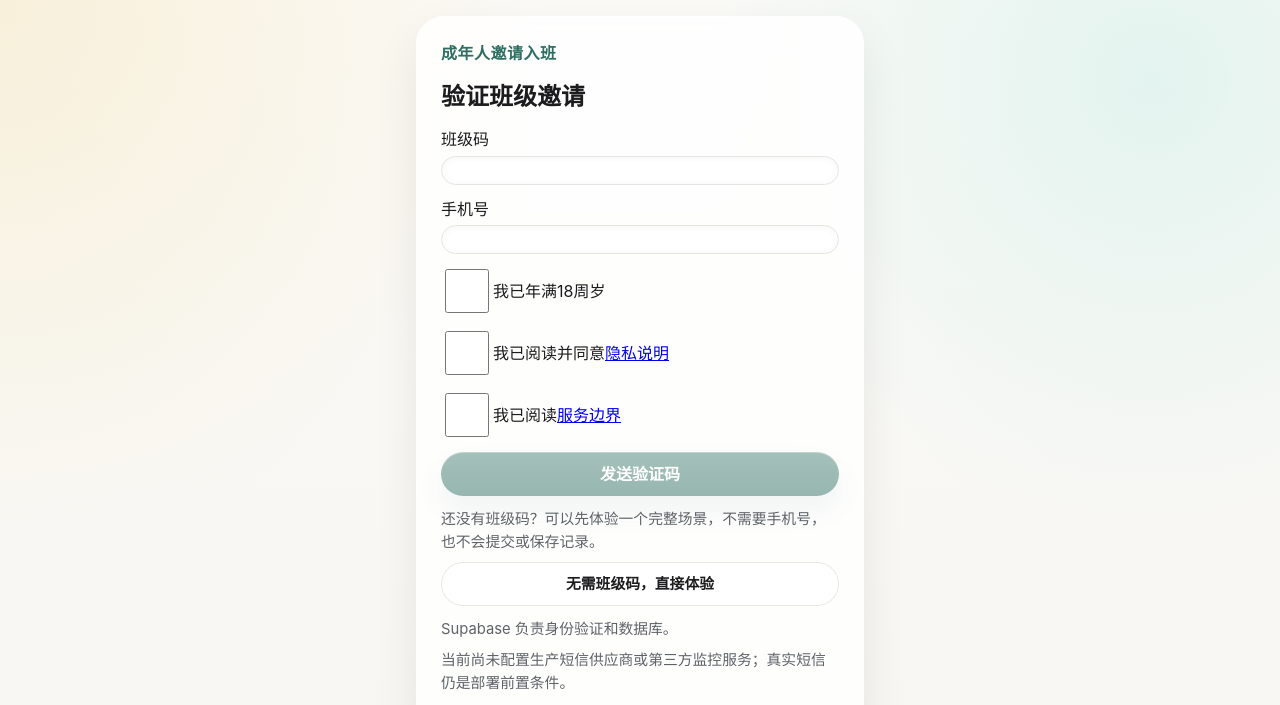
JoinCohortPage › clears an old request and link before a new OTP request that fails
In the field labelled "班级码": (640, 170) x1=441 y1=156 x2=839 y2=185, type "ABC123"
In the field labelled "手机号": (640, 240) x1=441 y1=225 x2=839 y2=254, type "13800138000"
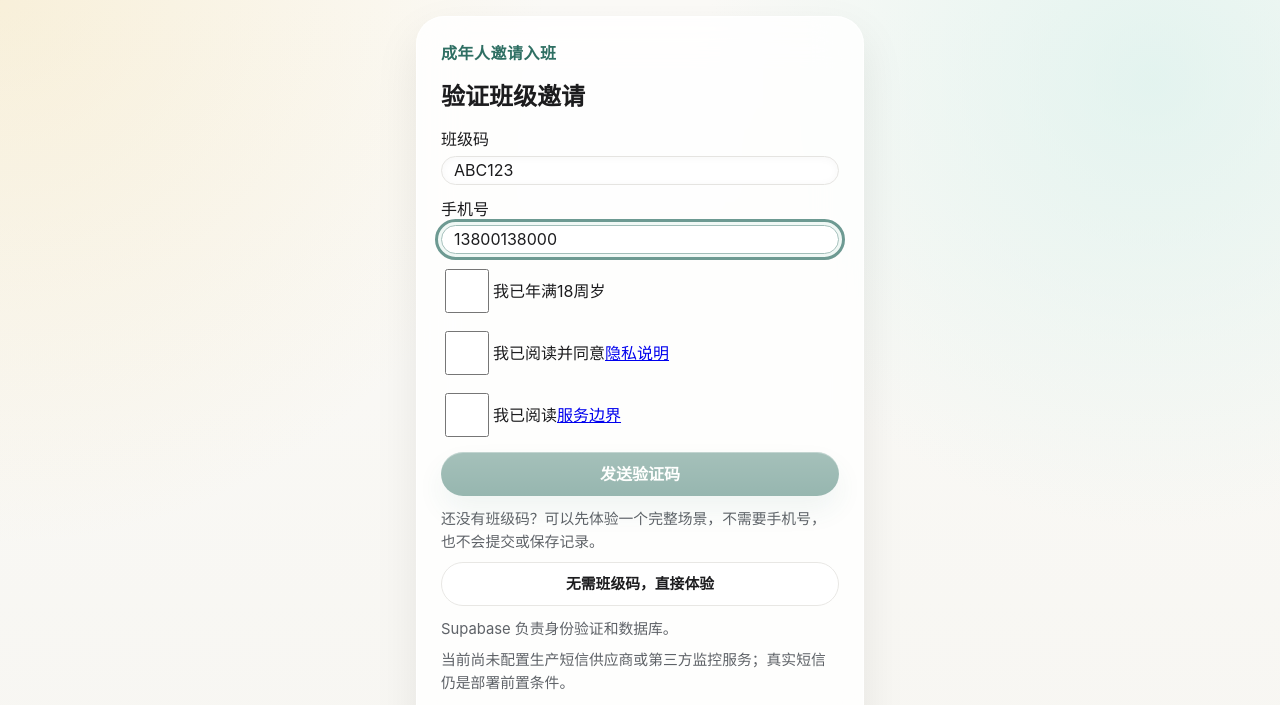
Click the checkbox labelled "我已年满18周岁": (467, 291) x1=445 y1=269 x2=489 y2=313
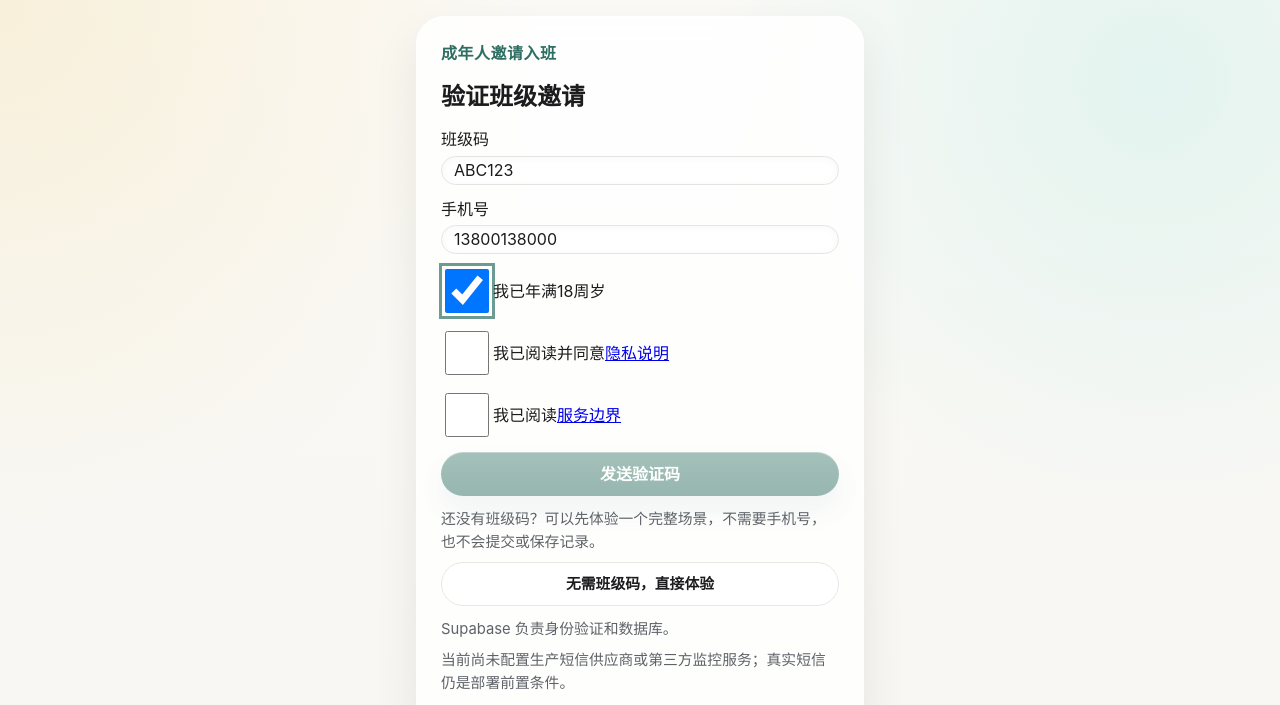
Click the checkbox named "我已阅读并同意隐私说明": (467, 353) x1=445 y1=331 x2=489 y2=375
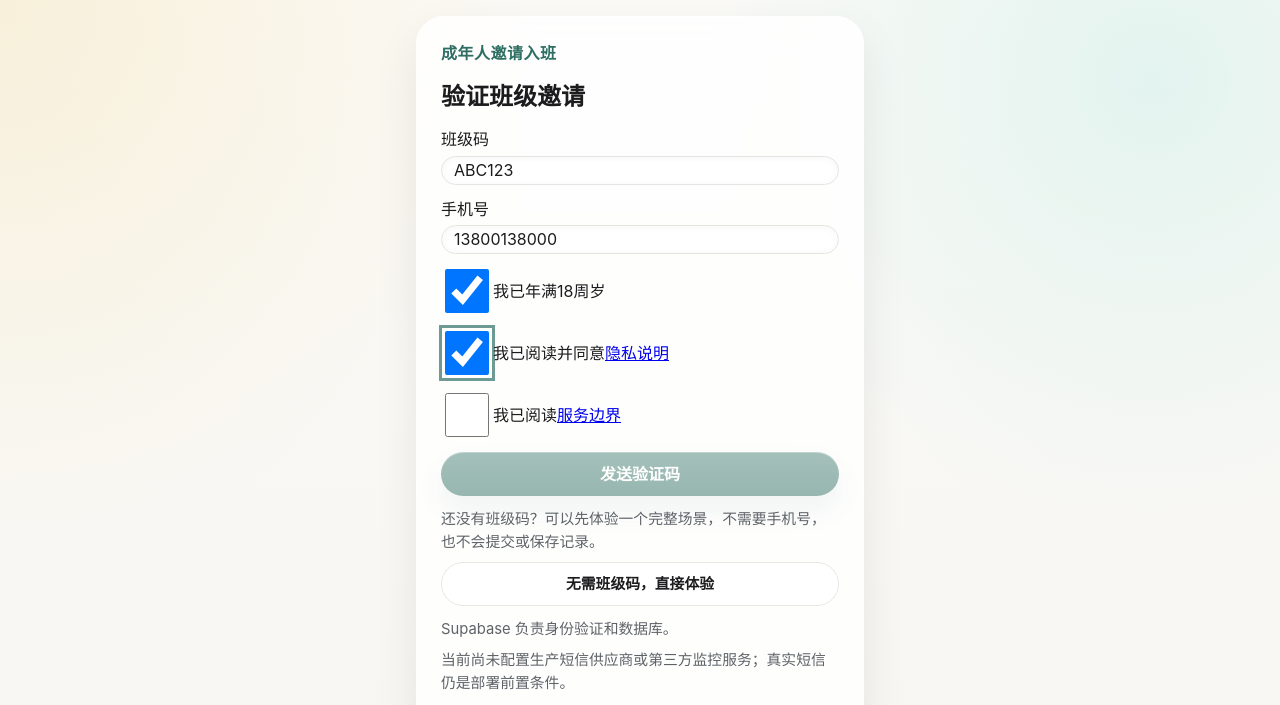
Click the checkbox named "我已阅读服务边界": (467, 415) x1=445 y1=393 x2=489 y2=437
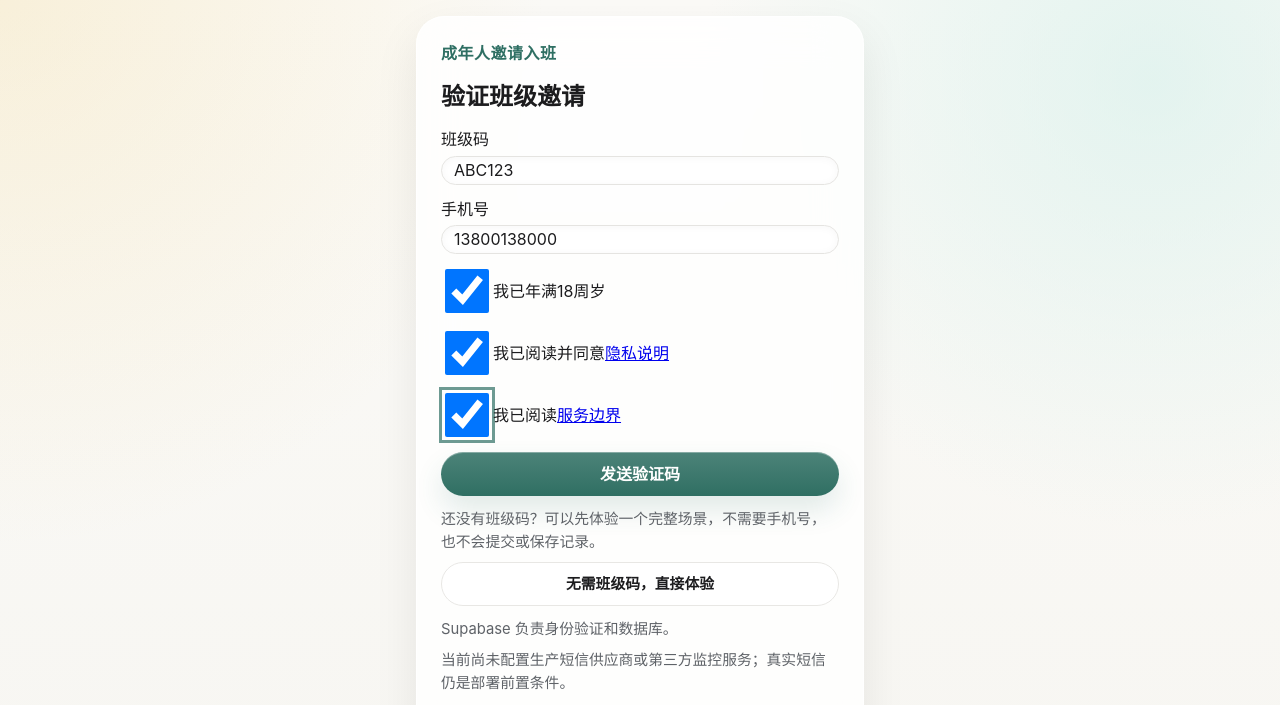
Click the button "发送验证码": (640, 474) x1=441 y1=452 x2=839 y2=496
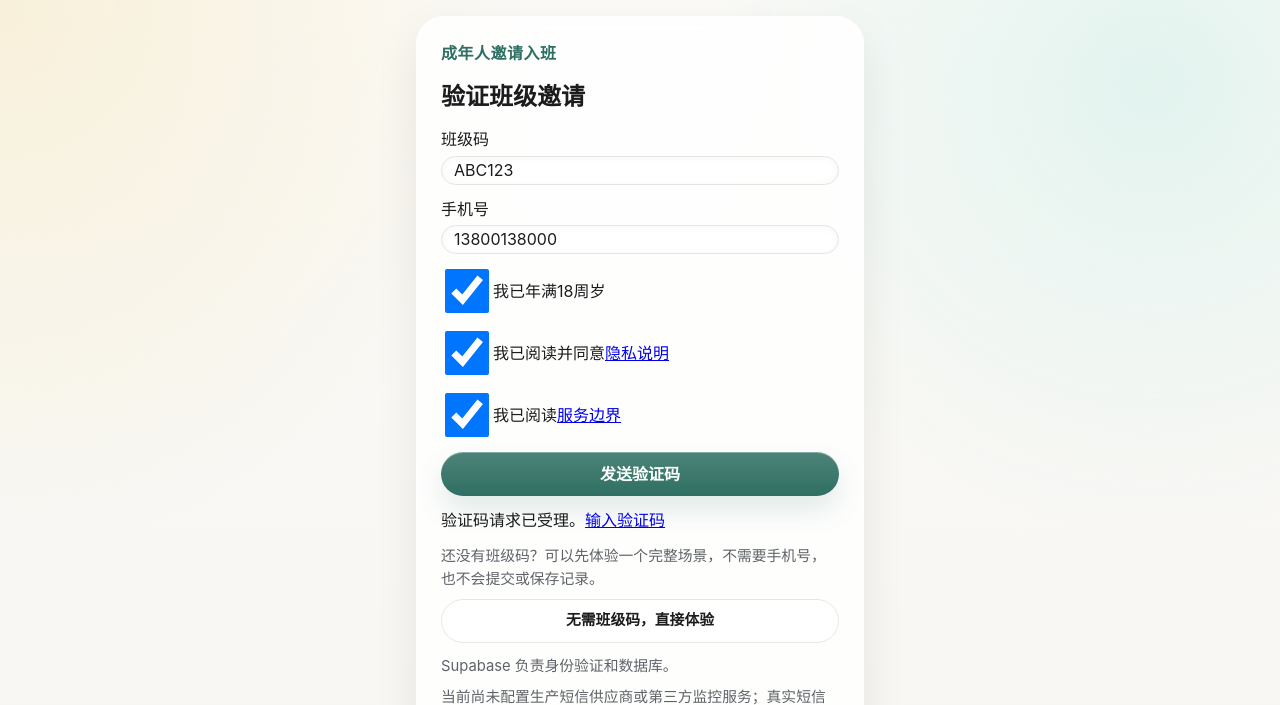
Expected: the link "输入验证码" is shown, x1=585 y1=510 x2=665 y2=530
Click the button "发送验证码": (640, 474) x1=441 y1=452 x2=839 y2=496
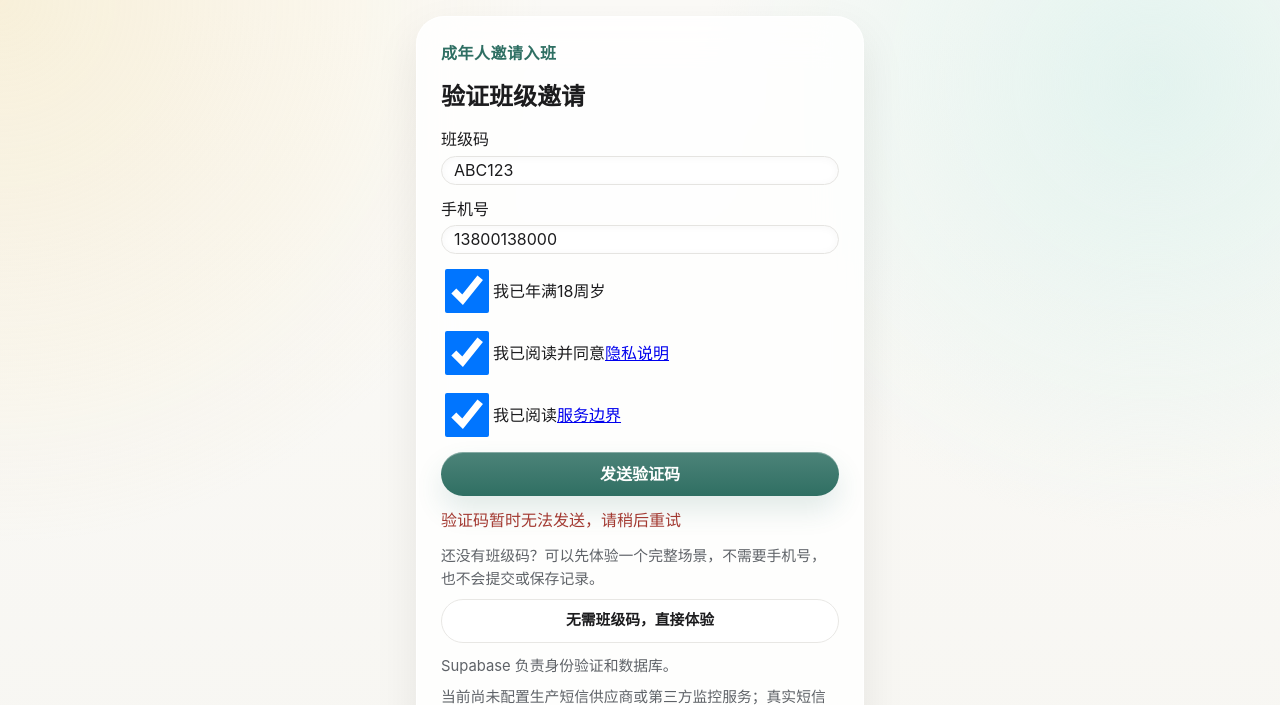
Expected: the message reads "验证码暂时无法发送，请稍后重试", x1=441 y1=510 x2=681 y2=530
Expected: the link "输入验证码" is gone
